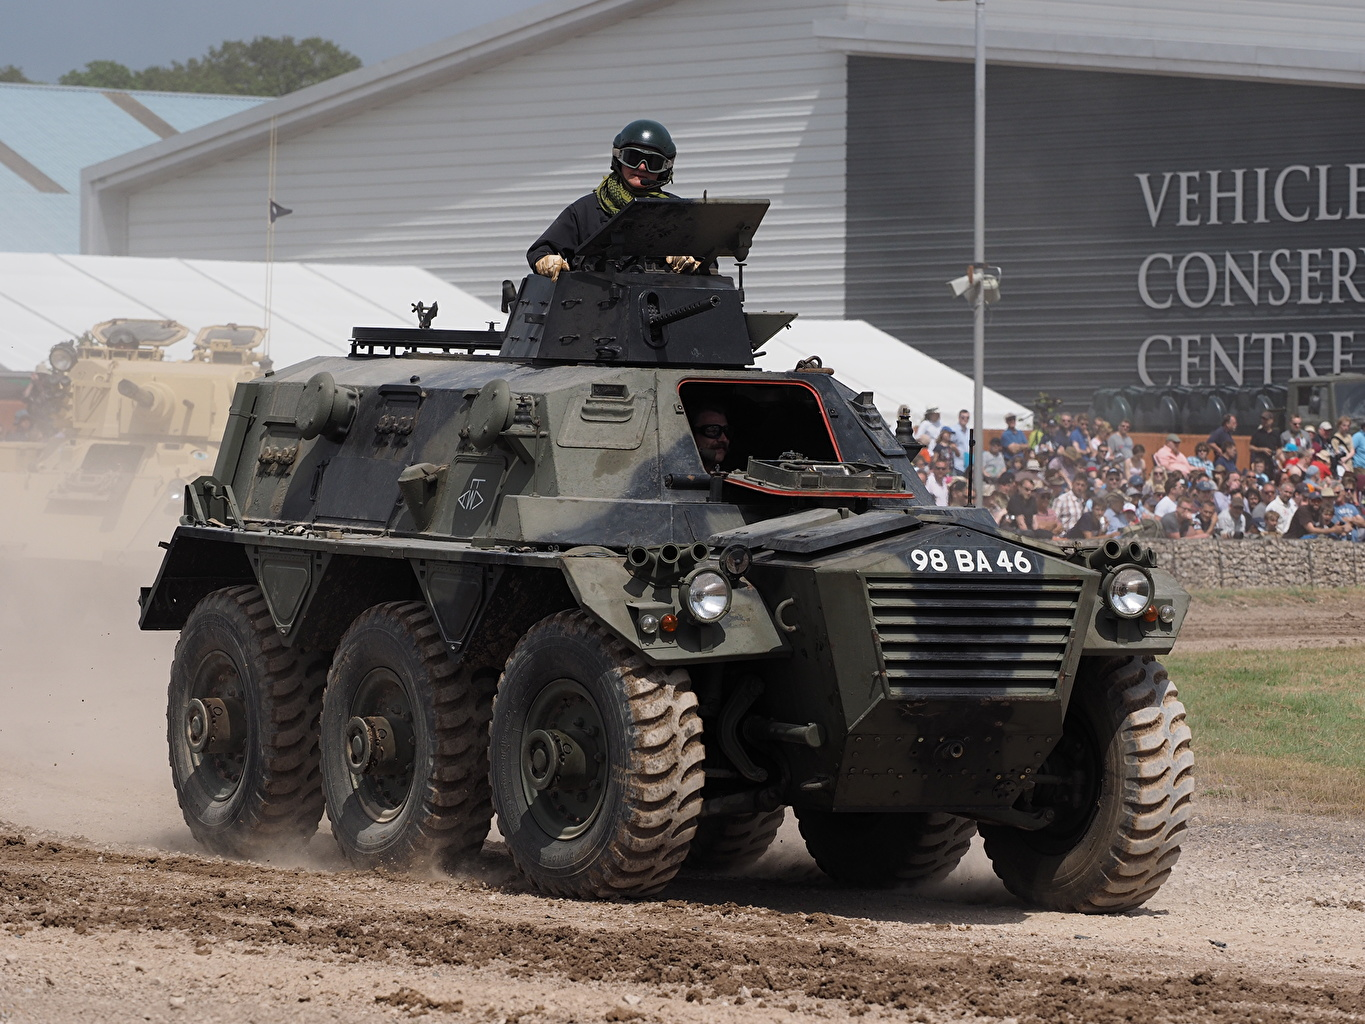btr: (148, 259, 1208, 912)
pilot: (516, 120, 740, 291), (669, 410, 743, 466)
tank: (1, 310, 311, 617)
